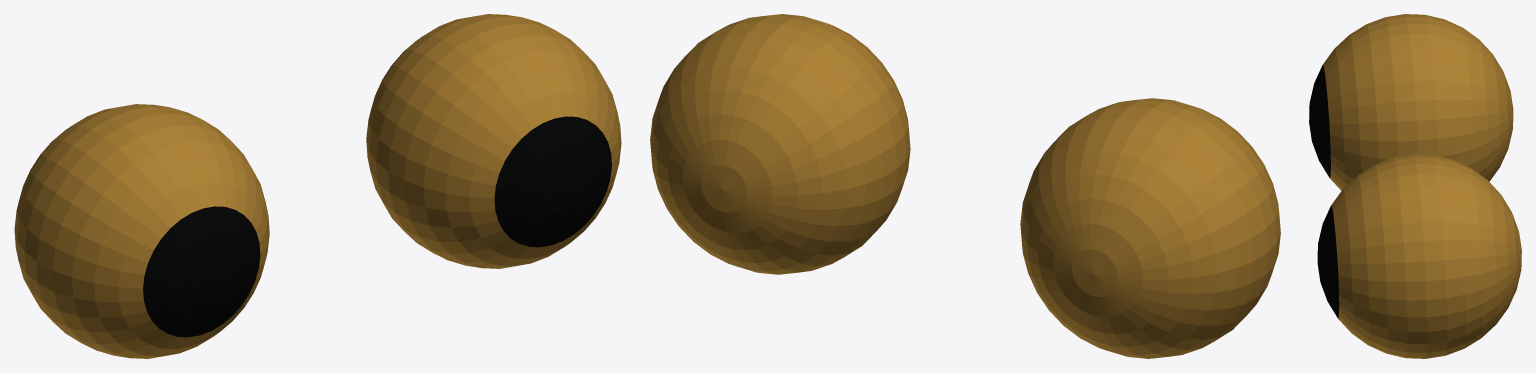
File: Nyx_EYES.fbx
3 views of the same model, side by side, from view 1: azimuth 30°, elevation 25°; view 2: azimuth 150°, elevation 25°; view 3: azimuth 270°, elevation 25° (orthographic). The views are drawn at different scales.
Visible parts, largest first — view 1: eye.001, eye; view 2: eye, eye.001; view 3: eye, eye.001.
Part boxes in pixels (left/top/right/bottom): eye.001: left=14, top=104, right=269, bottom=358; eye: left=366, top=14, right=621, bottom=268; eye: left=650, top=14, right=910, bottom=274; eye.001: left=1020, top=98, right=1280, bottom=358; eye: left=1317, top=154, right=1521, bottom=358; eye.001: left=1309, top=14, right=1513, bottom=190.
Bounding box in the file's own units: 79.59 × 30.58 × 31.63.
